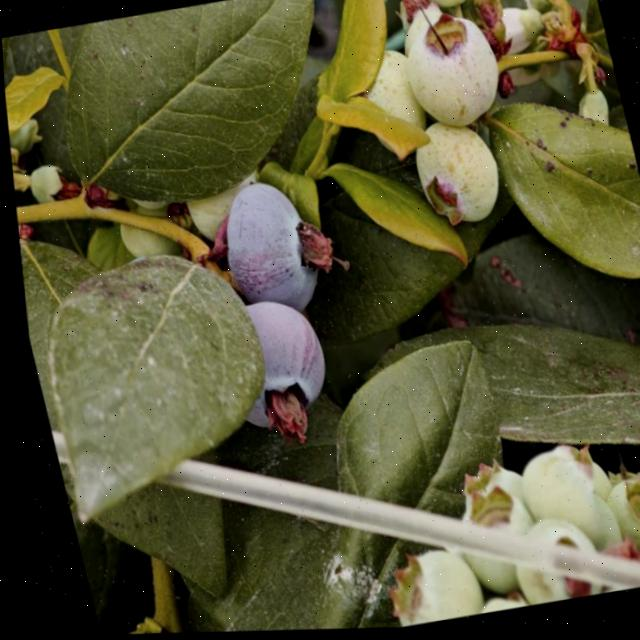Semi-RipeBlueBerry: (205, 173, 330, 324), (215, 291, 335, 439)
UnripeBlueBerry: (390, 5, 510, 139), (401, 112, 508, 236), (505, 447, 605, 552), (368, 540, 478, 631), (354, 44, 432, 158), (418, 0, 481, 15)
